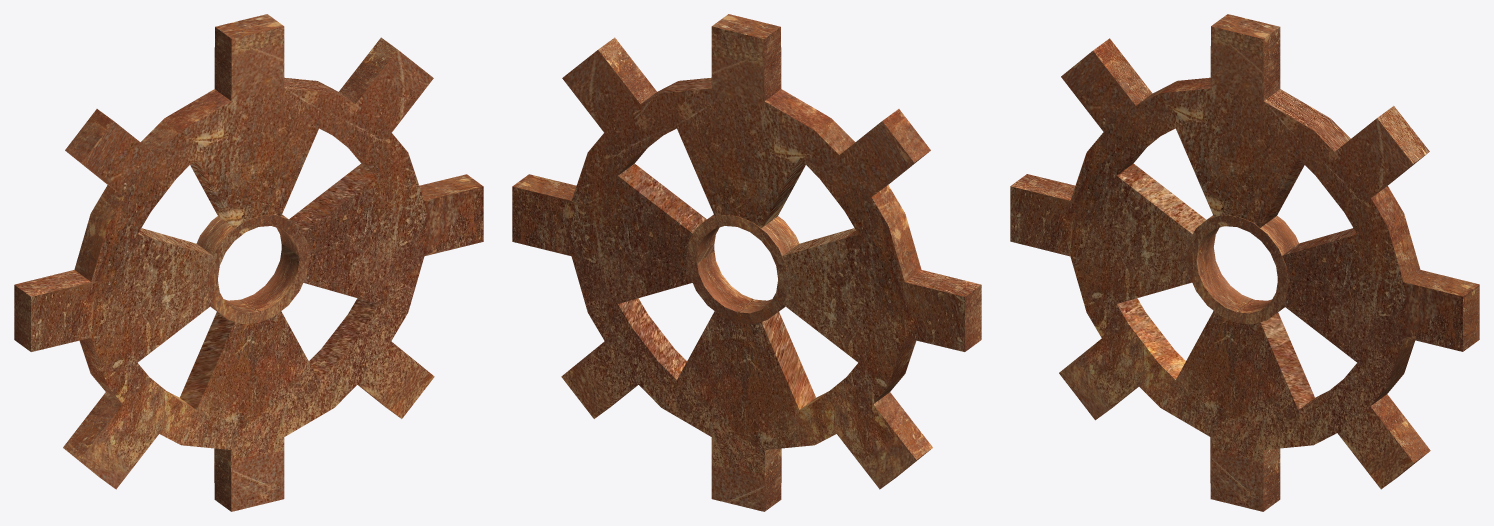
File: Gear.fbx
3 renders of one model, left to right at view 1: azimuth 30°, elevation 25°; view 2: azimuth 150°, elevation 25°; view 3: azimuth 330°, elevation 25°, orthographic.
Parts seen in each view (by area): view 1: obj2, obj3; view 2: obj2, obj3; view 3: obj2, obj3.
Boxes of the visible parts, x1,y1,x2,y2 form: obj2: (14, 14, 483, 511); obj3: (196, 214, 309, 323); obj2: (512, 14, 981, 511); obj3: (686, 214, 799, 323); obj2: (1010, 14, 1479, 511); obj3: (1186, 215, 1298, 324).
Bounding box in the file's own units: 268 × 268 × 17.8.
